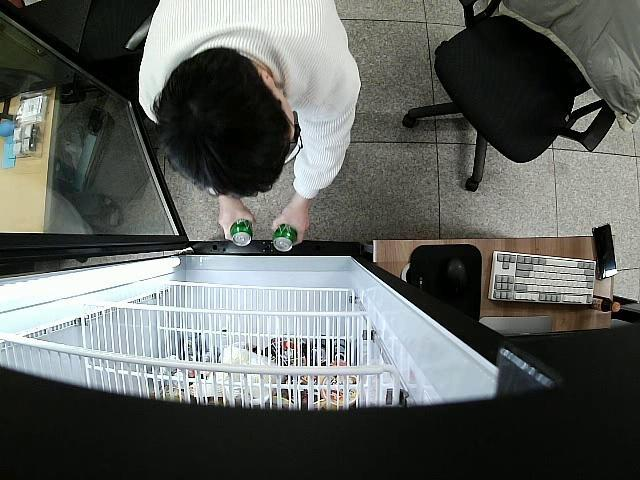12_chilsungCider: (272, 226, 297, 252), (230, 218, 253, 246)
